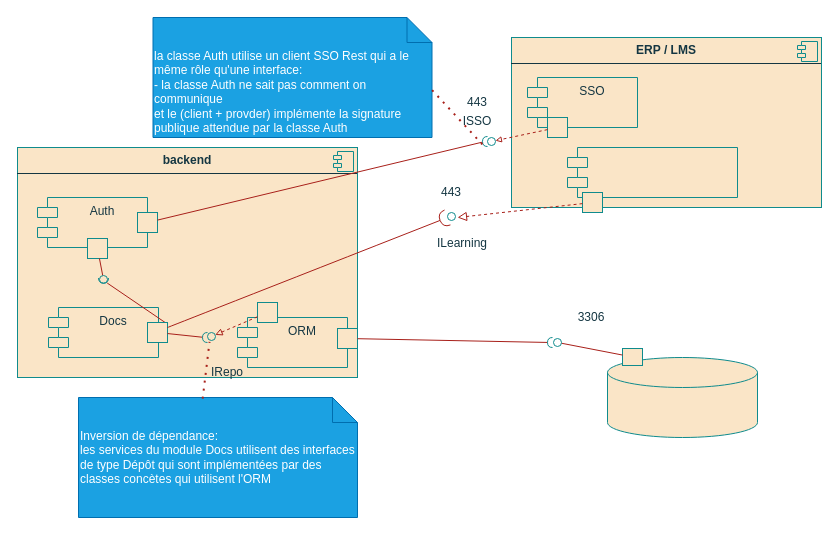
Image size: 839x535. Some labels were removed from this diagram. The shapes that lost their labels are listed below. From the top down, each one's centre as x and y in pixels, then its label:
At point (652, 172): "API Learning training + traininee".
At point (682, 397): "BDD".
